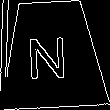N_N: (30, 28, 74, 81)
